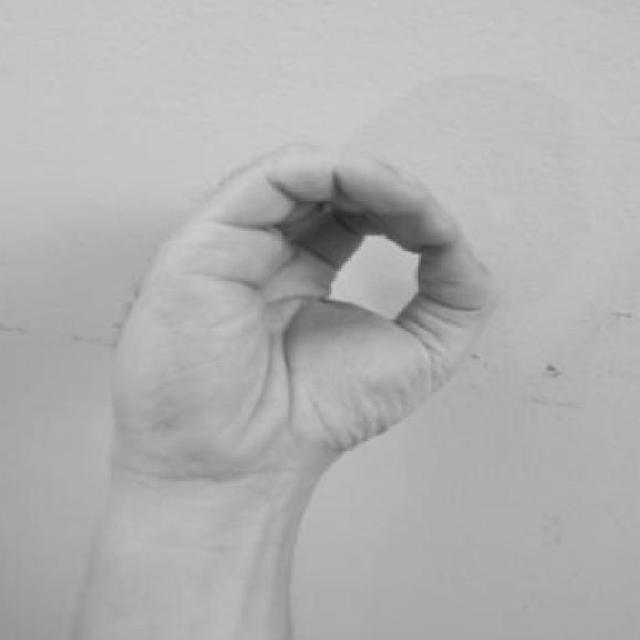O: (81, 135, 507, 506)
